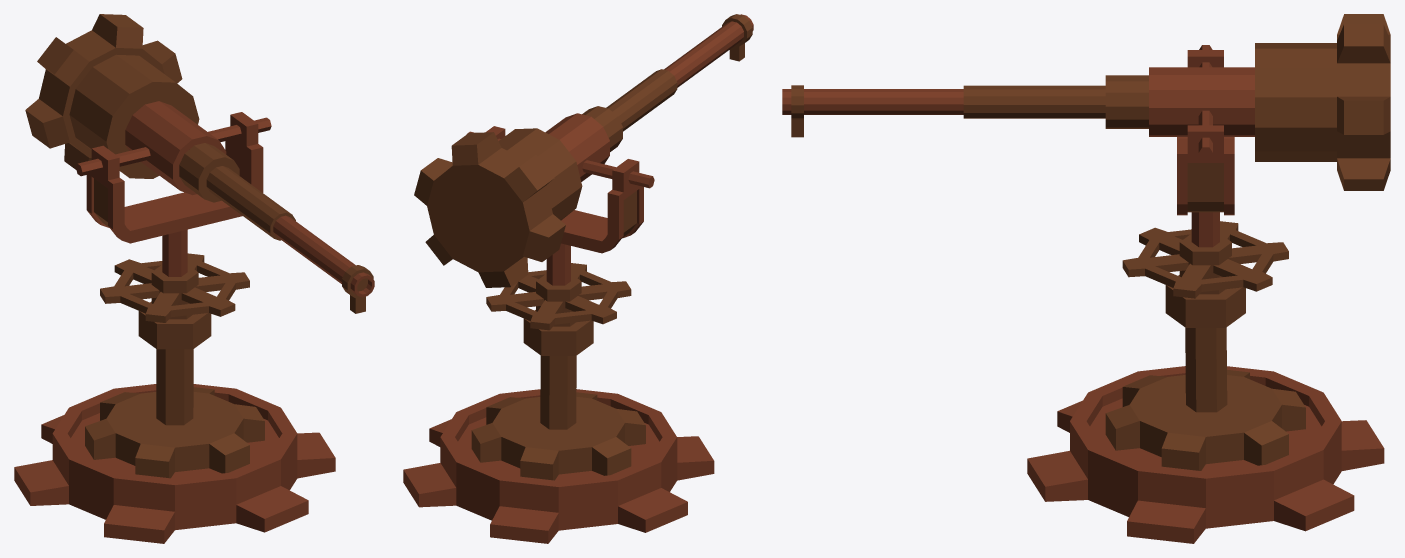
File: Gun_2.glb
3 views of the same model, side by side, from view 1: azimuth 30°, elevation 25°; view 2: azimuth 150°, elevation 25°; view 3: azimuth 270°, elevation 25° (orthographic). The views are drawn at different scales.
Parts seen in each view (by area): view 1: Gun_2_Base, Gun_2_Gun, Gun_2_Mid; view 2: Gun_2_Base, Gun_2_Gun, Gun_2_Mid; view 3: Gun_2_Base, Gun_2_Gun, Gun_2_Mid.
Part boxes in pixels (left/top/right/bottom): Gun_2_Base: left=14, top=384, right=335, bottom=543; Gun_2_Gun: left=25, top=14, right=374, bottom=313; Gun_2_Mid: left=76, top=112, right=271, bottom=425; Gun_2_Base: left=403, top=389, right=714, bottom=543; Gun_2_Gun: left=414, top=14, right=753, bottom=287; Gun_2_Mid: left=466, top=126, right=654, bottom=429; Gun_2_Base: left=1027, top=366, right=1384, bottom=543; Gun_2_Gun: left=782, top=14, right=1390, bottom=190; Gun_2_Mid: left=1122, top=45, right=1288, bottom=412.
Bounding box in the file's own units: 1.38 × 1.91 × 2.35.
